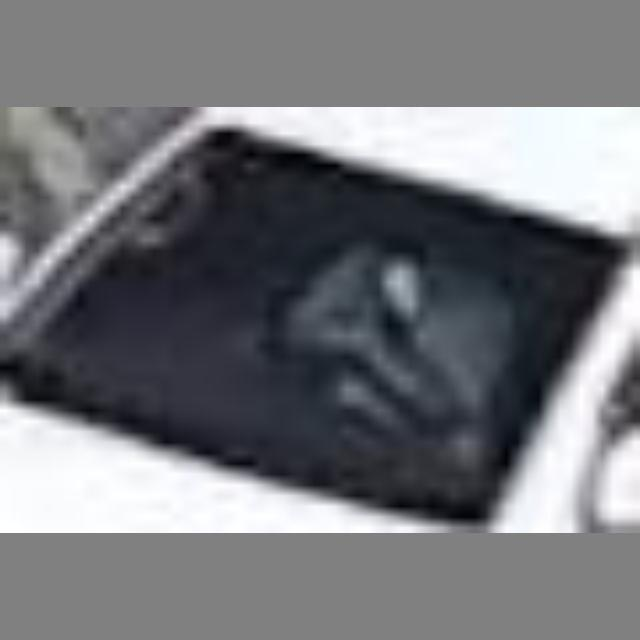pakai: (267, 214, 523, 438)
